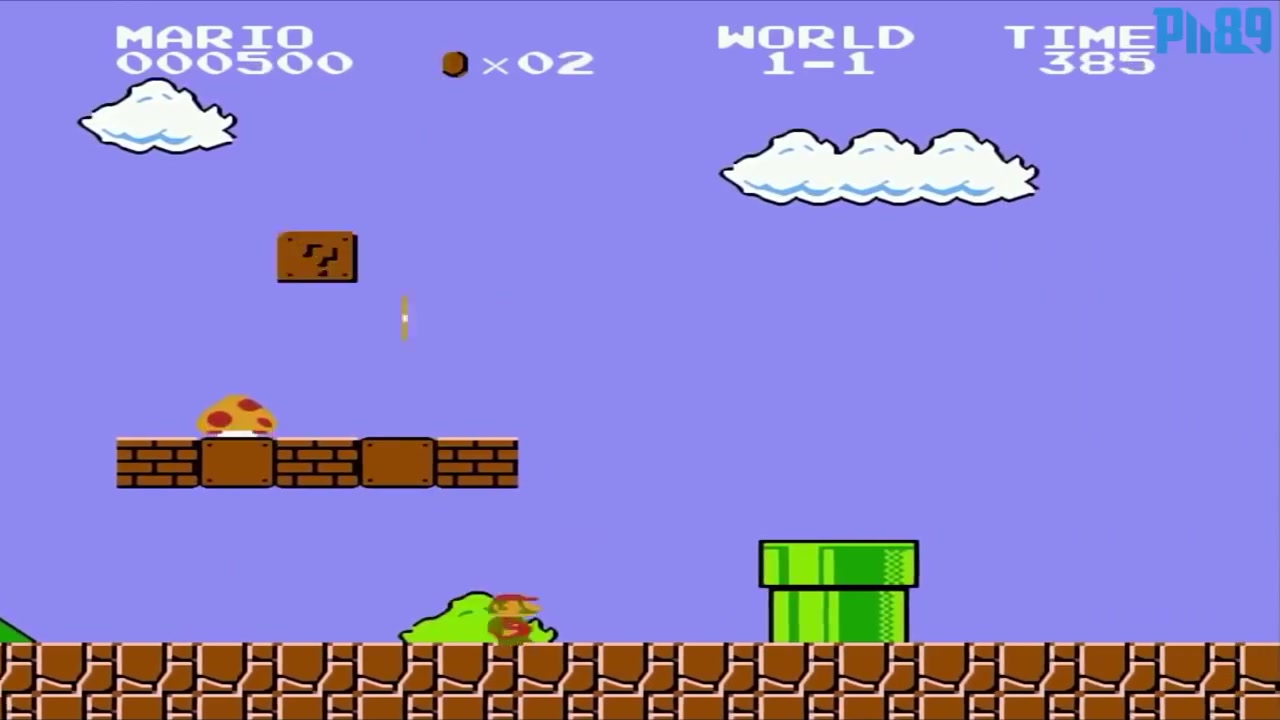mario: (478, 586, 541, 647)
